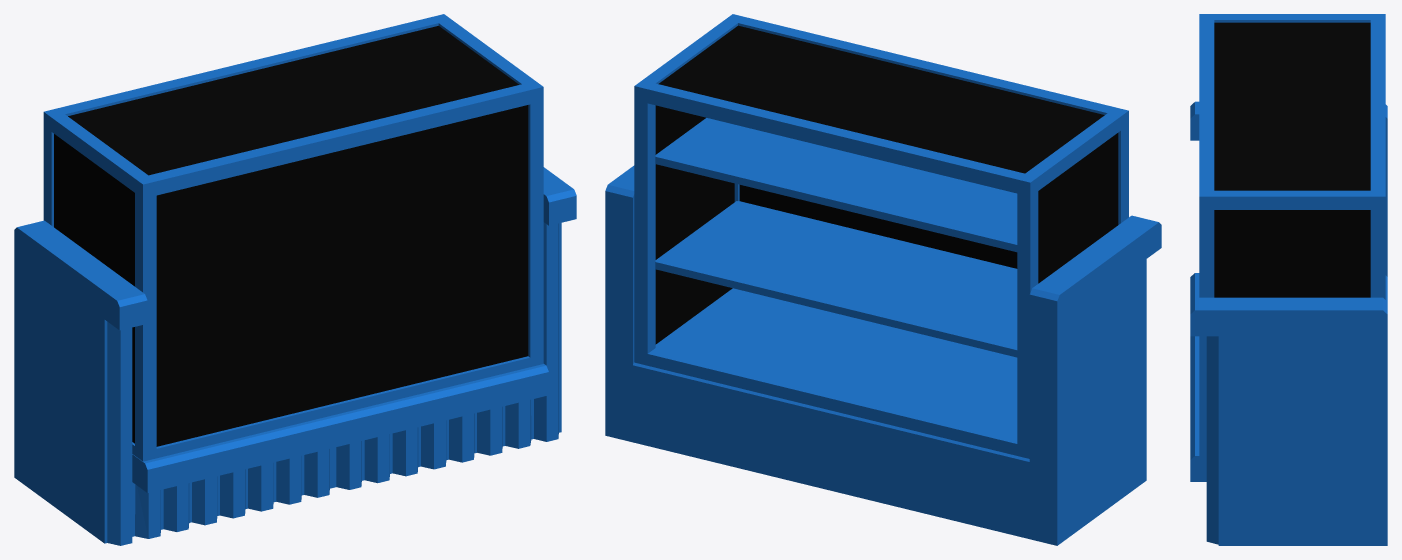
File: SM_barmans_table.fbx
3 renders of one model, left to right at view 1: azimuth 30°, elevation 25°; view 2: azimuth 150°, elevation 25°; view 3: azimuth 270°, elevation 25°, orthographic. The views are drawn at different scales.
Parts seen in each view (by area): view 1: Cube_24; view 2: Cube_24; view 3: Cube_24.
Boxes of the visible parts, x1,y1,x2,y2 form: Cube_24: (14,14,576,545); Cube_24: (605,14,1161,545); Cube_24: (1190,14,1387,545).
Bounding box in the file's own units: 200 × 150 × 80.
